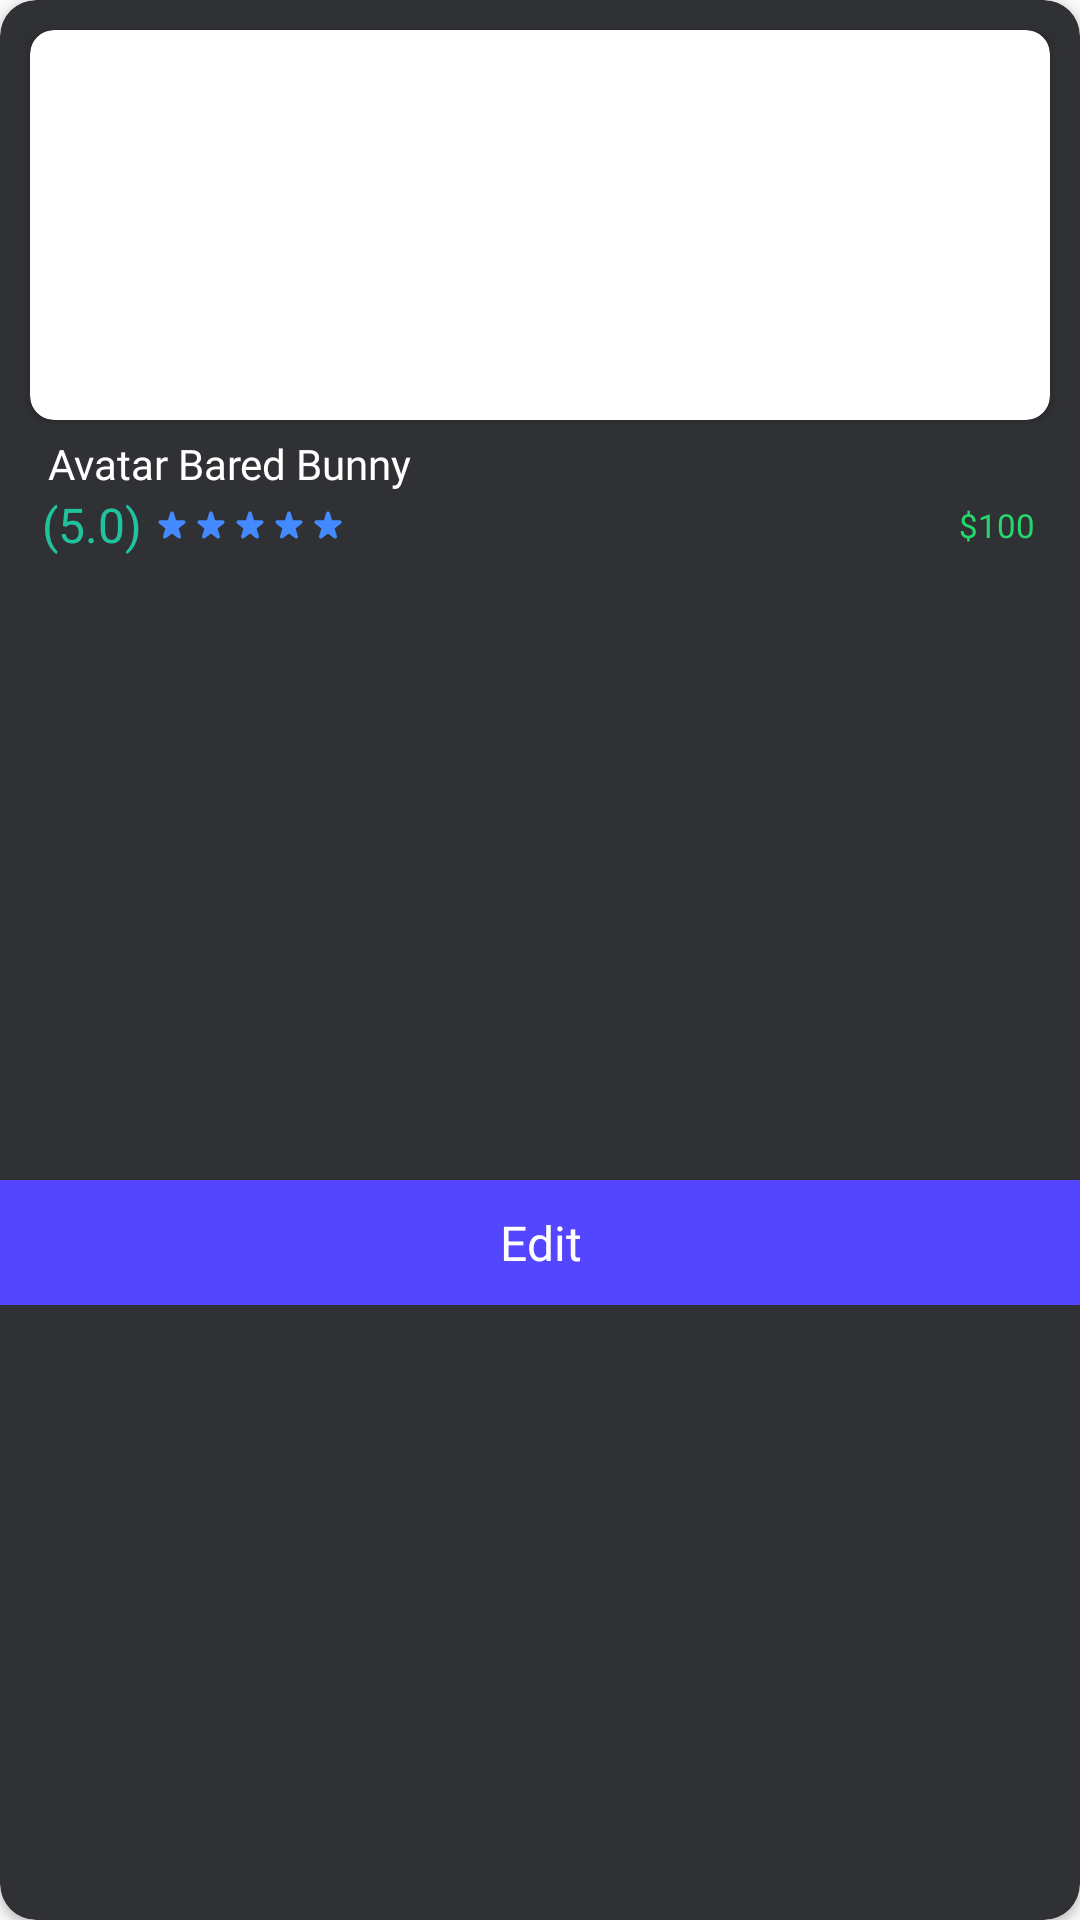

Named icons in this screenshot (1080px x 1920px) and their centers, (x,y):
starblue: (172,525), (211,525), (250,525), (289,525), (328,525)
